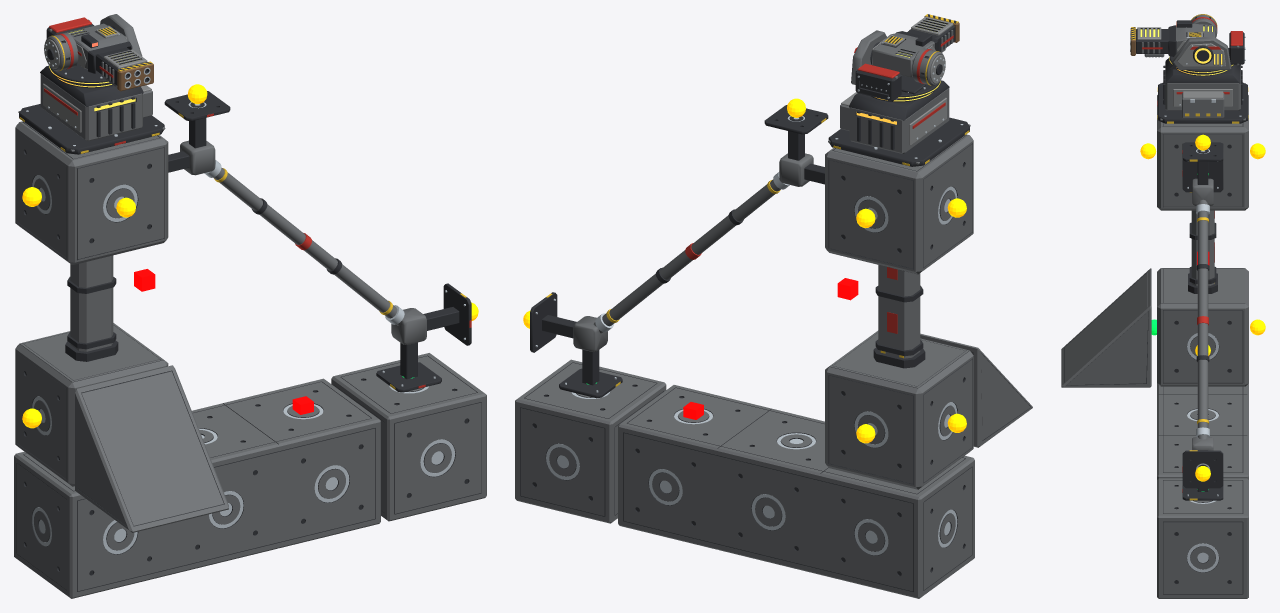
Rendered from ASM_braced_mast.glb.
3 views of the same model, side by side, from view 1: azimuth 30°, elevation 25°; view 2: azimuth 150°, elevation 25°; view 3: azimuth 270°, elevation 25° (orthographic). The views are drawn at different scales.
Parts seen in each view (by area): view 1: R4B_Beam3, R4C_STRUT_STANDARD, R4B_Wedge, R4B_Cube, R4C_ROD_DIAG_2D_LONG, R4W_Shotgun_Base, R4W_Shotgun_Pitch, R4W_Shotgun_Yaw, R4W_Shotgun_Barrels; view 2: R4B_Beam3, R4C_STRUT_STANDARD, R4B_Cube, R4C_ROD_DIAG_2D_LONG, R4W_Shotgun_Base, R4B_Wedge, R4W_Shotgun_Yaw, R4W_Shotgun_Pitch, R4W_Shotgun_Barrels; view 3: R4C_STRUT_STANDARD, R4B_Cube, R4C_ROD_DIAG_2D_LONG, R4B_Wedge, R4B_Beam3, R4W_Shotgun_Base, R4W_Shotgun_Yaw, R4W_Shotgun_Pitch, R4W_Shotgun_Barrels.
Boxes of the visible parts, x1=… form: R4B_Beam3: x1=14, y1=378, x2=380, y2=598; R4C_STRUT_STANDARD: x1=15, y1=121, x2=168, y2=486; R4B_Wedge: x1=75, y1=365, x2=228, y2=532; R4B_Cube: x1=331, y1=353, x2=486, y2=521; R4C_ROD_DIAG_2D_LONG: x1=164, y1=91, x2=471, y2=392; R4W_Shotgun_Base: x1=18, y1=65, x2=165, y2=154; R4W_Shotgun_Pitch: x1=44, y1=23, x2=132, y2=73; R4W_Shotgun_Yaw: x1=46, y1=14, x2=142, y2=85; R4W_Shotgun_Barrels: x1=95, y1=47, x2=153, y2=91; R4B_Beam3: x1=618, y1=385, x2=974, y2=598; R4C_STRUT_STANDARD: x1=825, y1=134, x2=973, y2=489; R4B_Cube: x1=515, y1=359, x2=666, y2=523; R4C_ROD_DIAG_2D_LONG: x1=530, y1=105, x2=828, y2=398; R4W_Shotgun_Base: x1=828, y1=80, x2=970, y2=166; R4B_Wedge: x1=920, y1=333, x2=1032, y2=447; R4W_Shotgun_Yaw: x1=851, y1=30, x2=940, y2=101; R4W_Shotgun_Pitch: x1=872, y1=31, x2=945, y2=85; R4W_Shotgun_Barrels: x1=907, y1=14, x2=959, y2=51; R4C_STRUT_STANDARD: x1=1157, y1=95, x2=1248, y2=386; R4B_Cube: x1=1157, y1=478, x2=1248, y2=598; R4C_ROD_DIAG_2D_LONG: x1=1182, y1=142, x2=1223, y2=500; R4B_Wedge: x1=1061, y1=268, x2=1151, y2=387; R4B_Beam3: x1=1157, y1=383, x2=1248, y2=479; R4W_Shotgun_Base: x1=1157, y1=58, x2=1248, y2=123; R4W_Shotgun_Yaw: x1=1169, y1=31, x2=1245, y2=74; R4W_Shotgun_Pitch: x1=1168, y1=14, x2=1217, y2=56; R4W_Shotgun_Barrels: x1=1130, y1=27, x2=1169, y2=55.
Size of the model in its own units: 2.36 by 2.69 by 1.16.
